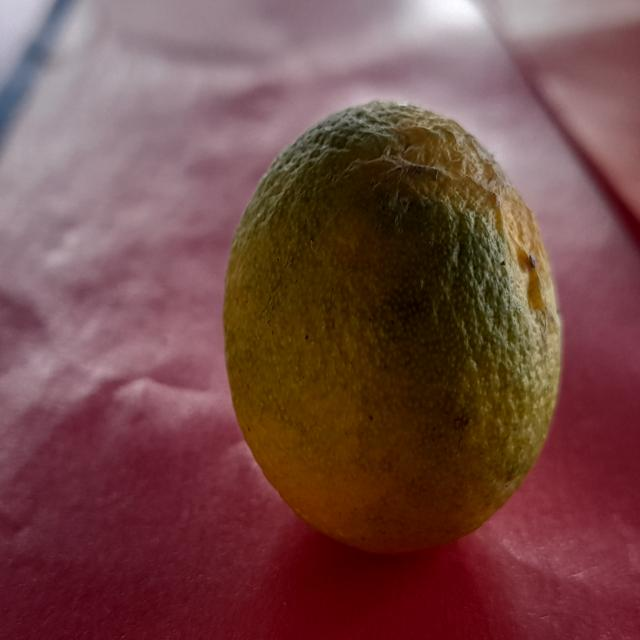greening: (222, 94, 563, 562)
